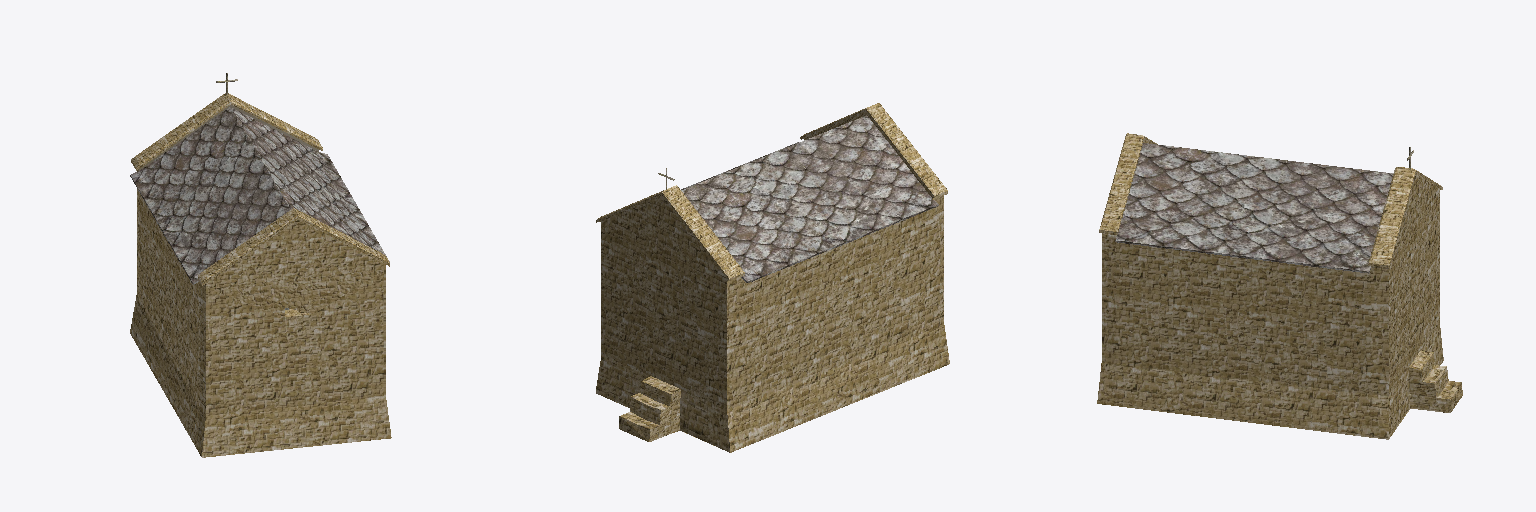
The picture shows the model from 3 angles: view 1: azimuth 30°, elevation 25°; view 2: azimuth 150°, elevation 25°; view 3: azimuth 270°, elevation 25°; orthographic projection.
Parts seen in each view (by area): view 1: Cube_Cube.001; view 2: Cube_Cube.001; view 3: Cube_Cube.001.
Boxes of the visible parts, x1,y1,x2,y2 form: Cube_Cube.001: [130, 73, 391, 457]; Cube_Cube.001: [596, 103, 949, 452]; Cube_Cube.001: [1097, 133, 1462, 439].
Size of the model in its own units: 11.09 by 11.33 by 14.87.
1 materials, 1 textured.